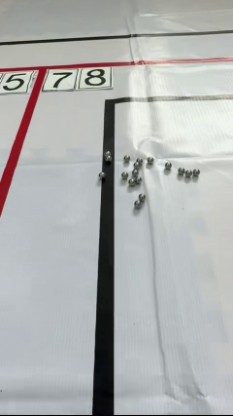ironball: (129, 197, 143, 208), (190, 165, 202, 177), (120, 152, 132, 163), (137, 190, 148, 201), (125, 177, 135, 188), (95, 170, 106, 179), (103, 153, 113, 162), (133, 173, 143, 182), (102, 147, 113, 155), (174, 165, 183, 174), (119, 170, 127, 180), (162, 159, 170, 169), (182, 168, 192, 176), (136, 154, 143, 164), (130, 166, 138, 174), (146, 155, 153, 163), (132, 158, 138, 165)
